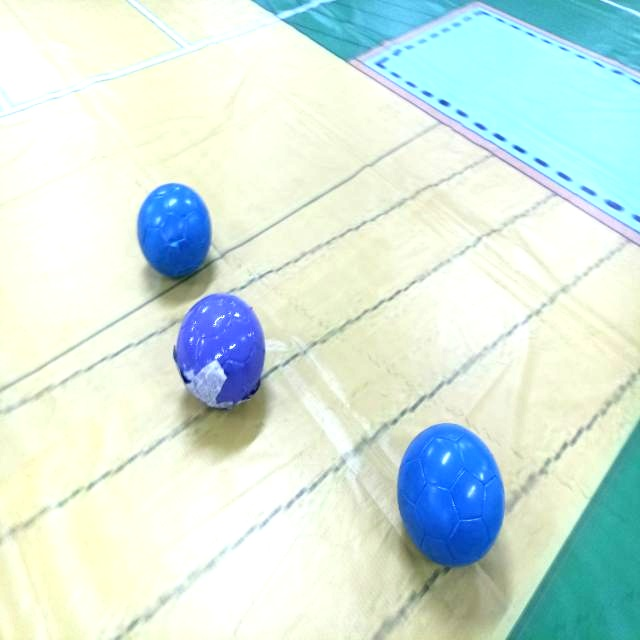blue_ball: (399, 427, 502, 562), (142, 185, 210, 274)
purple_ball: (179, 294, 261, 410)
